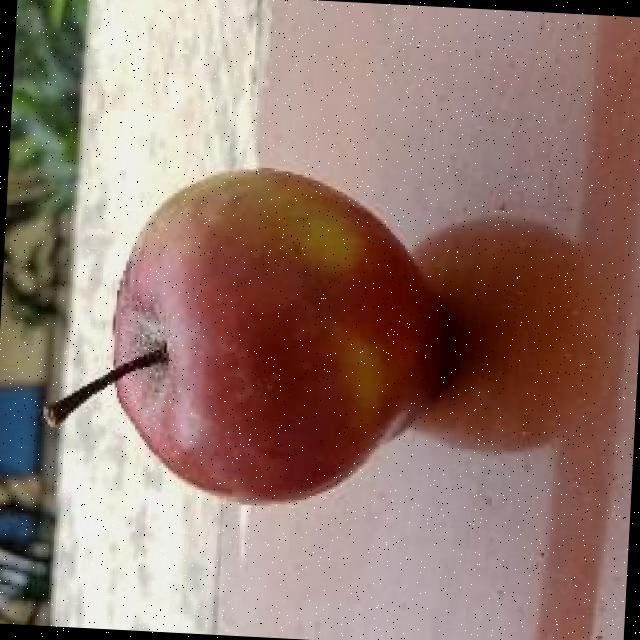Ripe: (96, 154, 460, 522)
